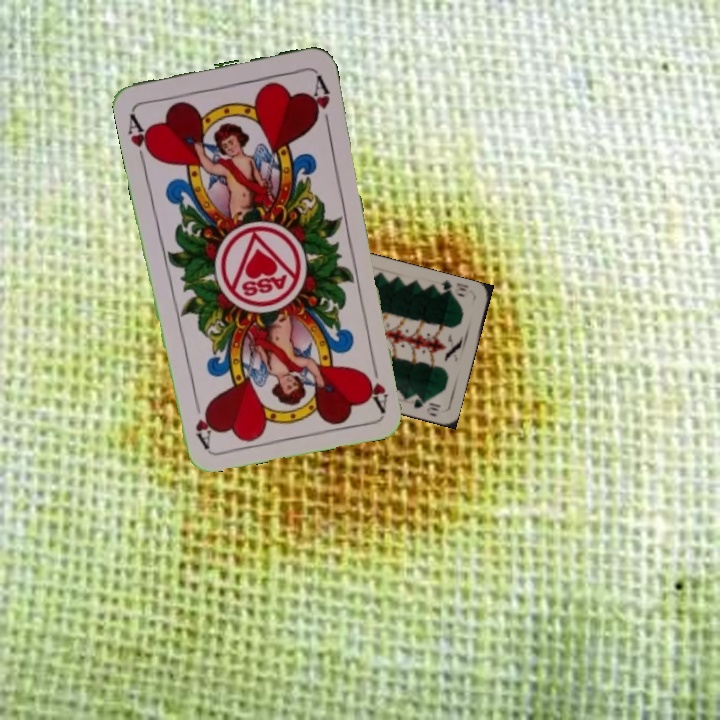G10: (433, 276, 471, 299)
HA: (124, 106, 157, 164), (361, 354, 391, 413)
